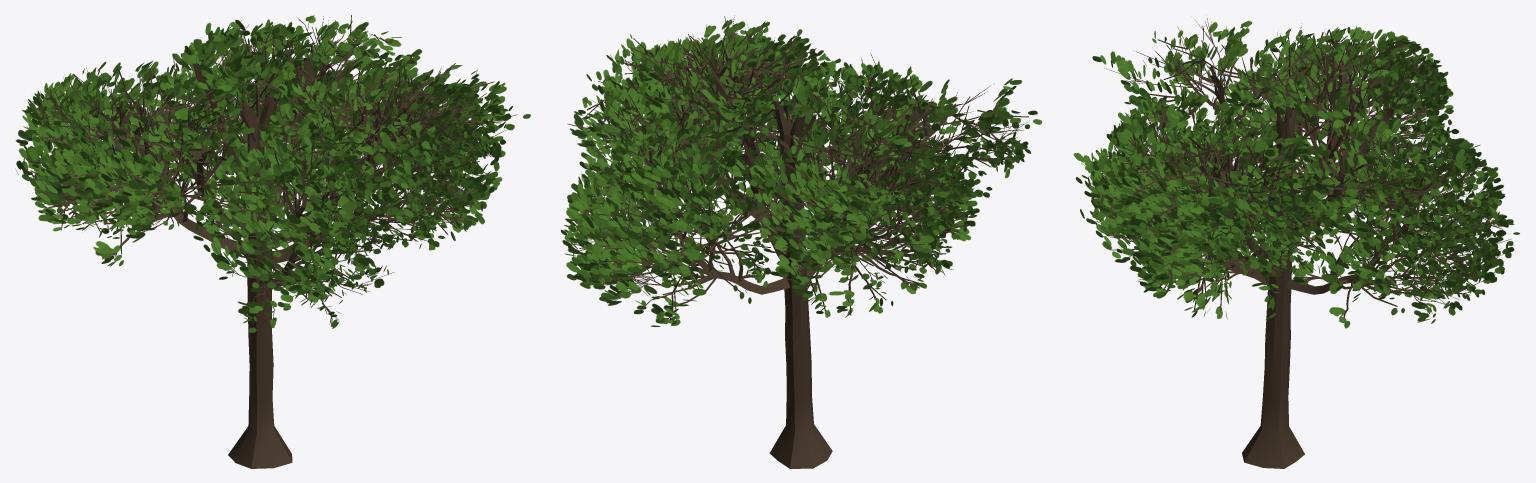
3 renders of one model, left to right at view 1: azimuth 30°, elevation 25°; view 2: azimuth 150°, elevation 25°; view 3: azimuth 270°, elevation 25°, orthographic. The views are drawn at different scales.
Visible parts, largest first — view 1: oak 01.001_trunk_Mat.001_0.150; view 2: oak 01.001_trunk_Mat.001_0.150; view 3: oak 01.001_trunk_Mat.001_0.150.
Boxes of the visible parts, x1=… form: oak 01.001_trunk_Mat.001_0.150: x1=15, y1=15, x2=530, y2=468; oak 01.001_trunk_Mat.001_0.150: x1=560, y1=15, x2=1041, y2=468; oak 01.001_trunk_Mat.001_0.150: x1=1073, y1=18, x2=1519, y2=468.
Bounding box in the file's own units: 6.24 × 5.1 × 5.72.
Materials: 2 (1 with a texture image).
